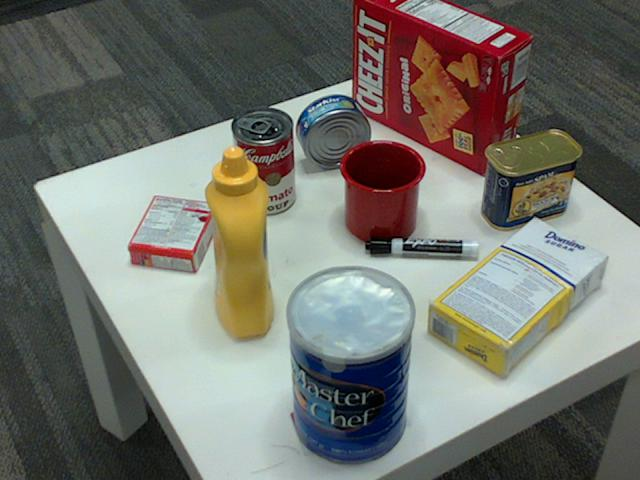cracker_box: (352, 0, 532, 174)
gelatin_box: (125, 192, 215, 269)
large_marker: (366, 237, 480, 261)
master_chef_can: (286, 268, 415, 467)
mug: (337, 138, 424, 243)
mustard_bottle: (202, 146, 272, 337)
potted_meat_can: (481, 131, 580, 231)
sugar_box: (425, 217, 606, 379)
tomato_soup_can: (230, 107, 294, 215)
tuna_fish_can: (294, 94, 370, 168)
